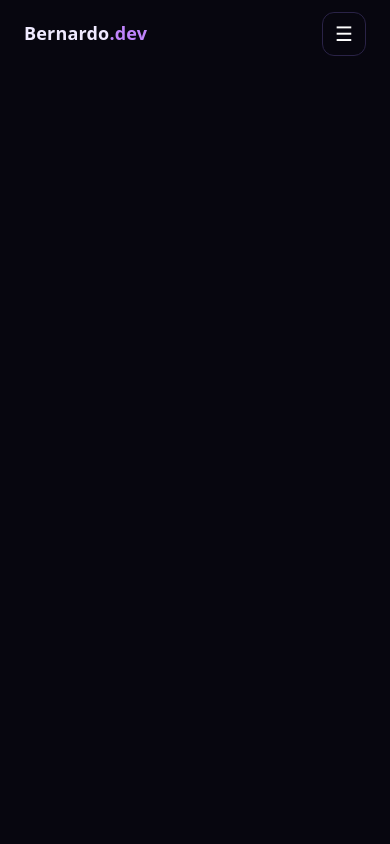
Test: clicking_a_menu_link_closes_menu
Click the button named "menu" at x=344, y=34, box [322,12,366,56]
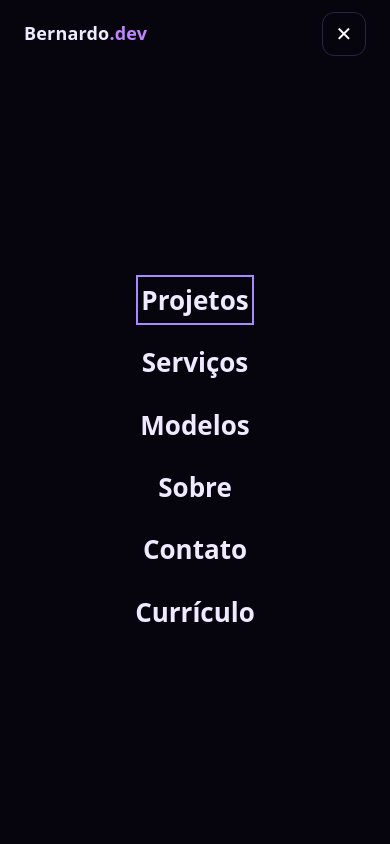
Click the link with id "sobre" at x=195, y=487, box [158,467,232,507]
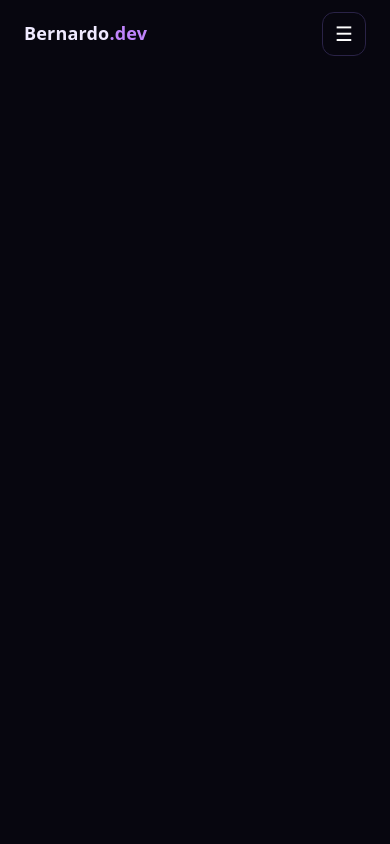
Now the button named "menu" is collapsed, box [322,12,366,56]
